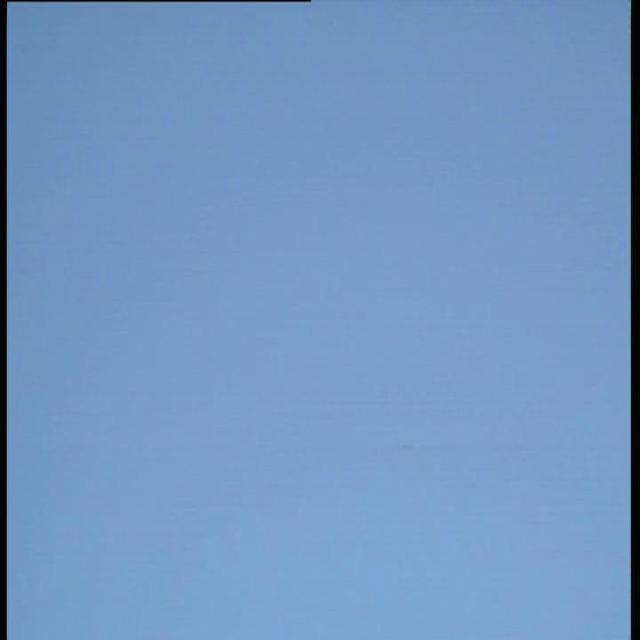drone: (389, 436, 431, 456)
